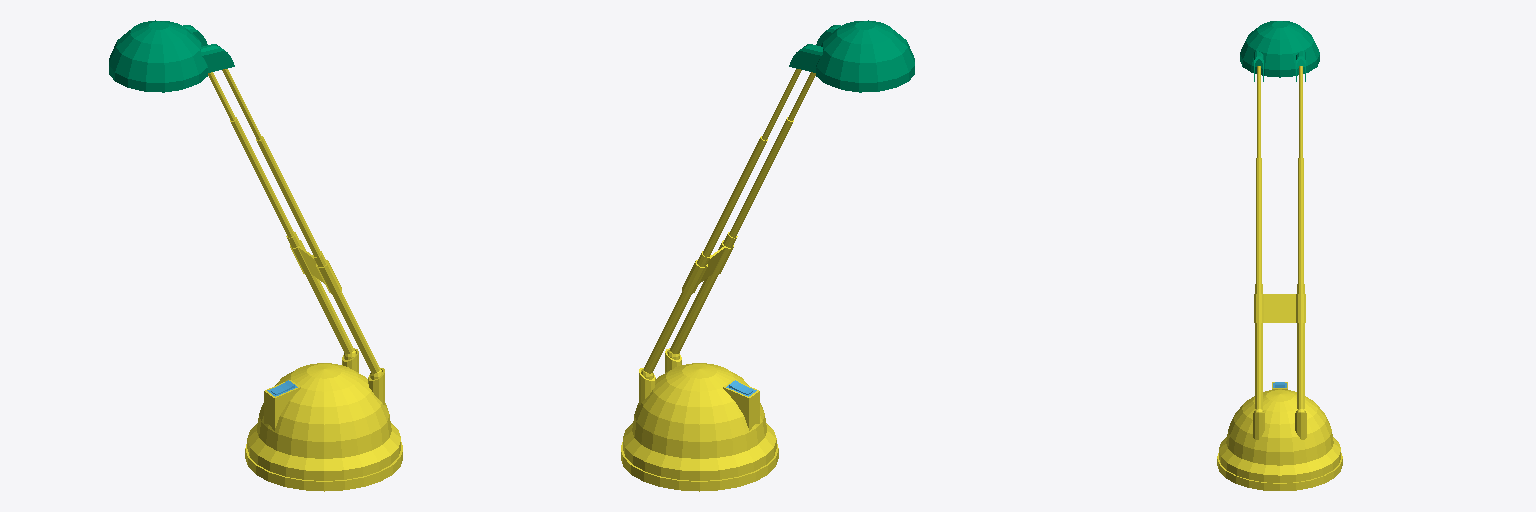
URDF robot description (partnet_454b7345c01c404b6d0fc9460109eda7):
<?xml version="1.0" ?>
<robot name="partnet_454b7345c01c404b6d0fc9460109eda7">
	<link name="base"/>
	<link name="link_0">
		<visual name="movable_part-20">
			<origin xyz="-0.02830199999999994 0.23076178936270428 -0.004667631456654672"/>
			<geometry>
				<mesh filename="textured_objs/original-3.obj"/>
			</geometry>
		</visual>
		<collision>
			<origin xyz="-0.02830199999999994 0.23076178936270428 -0.004667631456654672"/>
			<geometry>
				<mesh filename="textured_objs/original-3.obj"/>
			</geometry>
		</collision>
	</link>
	<joint name="joint_0" type="revolute">
		<origin xyz="0.02830199999999994 -0.23076178936270428 0.004667631456654672"/>
		<axis xyz="-1 0 0"/>
		<child link="link_0"/>
		<parent link="link_2"/>
		<limit lower="0.0" upper="0.2617993877991494"/>
	</joint>
	<link name="link_1">
		<visual name="lamp_cover_holder-10">
			<origin xyz="0 -0.8196697576071001 -0.24475517439603786"/>
			<geometry>
				<mesh filename="textured_objs/original-11.obj"/>
			</geometry>
		</visual>
		<visual name="lamp_cover_holder-10">
			<origin xyz="0 -0.8196697576071001 -0.24475517439603786"/>
			<geometry>
				<mesh filename="textured_objs/original-12.obj"/>
			</geometry>
		</visual>
		<visual name="lamp_shade-12">
			<origin xyz="0 -0.8196697576071001 -0.24475517439603786"/>
			<geometry>
				<mesh filename="textured_objs/original-10.obj"/>
			</geometry>
		</visual>
		<collision>
			<origin xyz="0 -0.8196697576071001 -0.24475517439603786"/>
			<geometry>
				<mesh filename="textured_objs/original-11.obj"/>
			</geometry>
		</collision>
		<collision>
			<origin xyz="0 -0.8196697576071001 -0.24475517439603786"/>
			<geometry>
				<mesh filename="textured_objs/original-12.obj"/>
			</geometry>
		</collision>
		<collision>
			<origin xyz="0 -0.8196697576071001 -0.24475517439603786"/>
			<geometry>
				<mesh filename="textured_objs/original-10.obj"/>
			</geometry>
		</collision>
	</link>
	<joint name="joint_1" type="revolute">
		<origin xyz="0 0.8196697576071001 0.24475517439603786"/>
		<axis xyz="1 0 0"/>
		<child link="link_1"/>
		<parent link="link_2"/>
		<limit lower="-1.1875220230569419" upper="0.867079572390783"/>
	</joint>
	<link name="link_2">
		<visual name="lamp_arm_straight_bar-9">
			<origin xyz="0 0 0"/>
			<geometry>
				<mesh filename="textured_objs/original-14.obj"/>
			</geometry>
		</visual>
		<visual name="lamp_arm_straight_bar-9">
			<origin xyz="0 0 0"/>
			<geometry>
				<mesh filename="textured_objs/original-13.obj"/>
			</geometry>
		</visual>
		<visual name="lamp_arm_straight_bar-9">
			<origin xyz="0 0 0"/>
			<geometry>
				<mesh filename="textured_objs/original-8.obj"/>
			</geometry>
		</visual>
		<visual name="lamp_arm_straight_bar-9">
			<origin xyz="0 0 0"/>
			<geometry>
				<mesh filename="textured_objs/original-6.obj"/>
			</geometry>
		</visual>
		<visual name="lamp_arm_straight_bar-9">
			<origin xyz="0 0 0"/>
			<geometry>
				<mesh filename="textured_objs/original-7.obj"/>
			</geometry>
		</visual>
		<visual name="lamp_base_part-14">
			<origin xyz="0 0 0"/>
			<geometry>
				<mesh filename="textured_objs/original-5.obj"/>
			</geometry>
		</visual>
		<visual name="fixed_part-21">
			<origin xyz="0 0 0"/>
			<geometry>
				<mesh filename="textured_objs/original-4.obj"/>
			</geometry>
		</visual>
		<collision>
			<origin xyz="0 0 0"/>
			<geometry>
				<mesh filename="textured_objs/original-14.obj"/>
			</geometry>
		</collision>
		<collision>
			<origin xyz="0 0 0"/>
			<geometry>
				<mesh filename="textured_objs/original-13.obj"/>
			</geometry>
		</collision>
		<collision>
			<origin xyz="0 0 0"/>
			<geometry>
				<mesh filename="textured_objs/original-8.obj"/>
			</geometry>
		</collision>
		<collision>
			<origin xyz="0 0 0"/>
			<geometry>
				<mesh filename="textured_objs/original-6.obj"/>
			</geometry>
		</collision>
		<collision>
			<origin xyz="0 0 0"/>
			<geometry>
				<mesh filename="textured_objs/original-7.obj"/>
			</geometry>
		</collision>
		<collision>
			<origin xyz="0 0 0"/>
			<geometry>
				<mesh filename="textured_objs/original-5.obj"/>
			</geometry>
		</collision>
		<collision>
			<origin xyz="0 0 0"/>
			<geometry>
				<mesh filename="textured_objs/original-4.obj"/>
			</geometry>
		</collision>
	</link>
	<joint name="joint_2" type="fixed">
		<origin rpy="1.570796326794897 0 -1.570796326794897" xyz="0 0 0"/>
		<child link="link_2"/>
		<parent link="base"/>
	</joint>
</robot>

--- Facts derived from the render (not from the file) ---
3 views of the same robot in one strip: view 1: azimuth 30°, elevation 25°; view 2: azimuth 150°, elevation 25°; view 3: azimuth 270°, elevation 25° (orthographic).
Robot: partnet_454b7345c01c404b6d0fc9460109eda7 — 4 links, 3 joints (2 revolute, 1 fixed); root link base; default pose: every joint at zero.
Visible links, largest first — view 1: link_2, link_1; view 2: link_2, link_1; view 3: link_2, link_1.
Link boxes in pixels (x1=…): link_2: x1=208, y1=69, x2=402, y2=491; link_1: x1=109, y1=20, x2=234, y2=92; link_2: x1=621, y1=69, x2=815, y2=491; link_1: x1=789, y1=20, x2=914, y2=92; link_2: x1=1217, y1=66, x2=1342, y2=490; link_1: x1=1240, y1=21, x2=1319, y2=81.
Bounding box of the posed robot: 0.8445 × 0.4164 × 1.37 m (x, y, z).
11 mesh visuals loaded from 11 distinct referenced files (11 OBJ).
